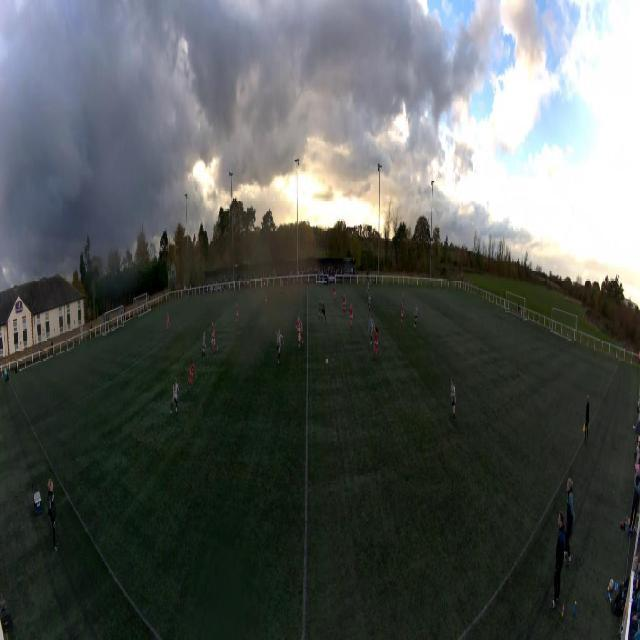ball: (280, 280, 284, 297), (325, 358, 328, 365)
player: (171, 378, 180, 415), (450, 376, 456, 424), (276, 326, 283, 365), (188, 360, 197, 390), (296, 315, 303, 349), (211, 323, 218, 355), (368, 315, 375, 344), (373, 328, 379, 358), (201, 331, 206, 362), (236, 303, 241, 328), (321, 299, 326, 324), (401, 303, 405, 330), (349, 303, 353, 330), (414, 304, 418, 329), (367, 294, 372, 313), (342, 294, 346, 316), (167, 311, 171, 331), (318, 299, 321, 323), (333, 285, 336, 304), (367, 282, 370, 298), (264, 293, 267, 307), (500, 302, 502, 318), (402, 290, 404, 305)
